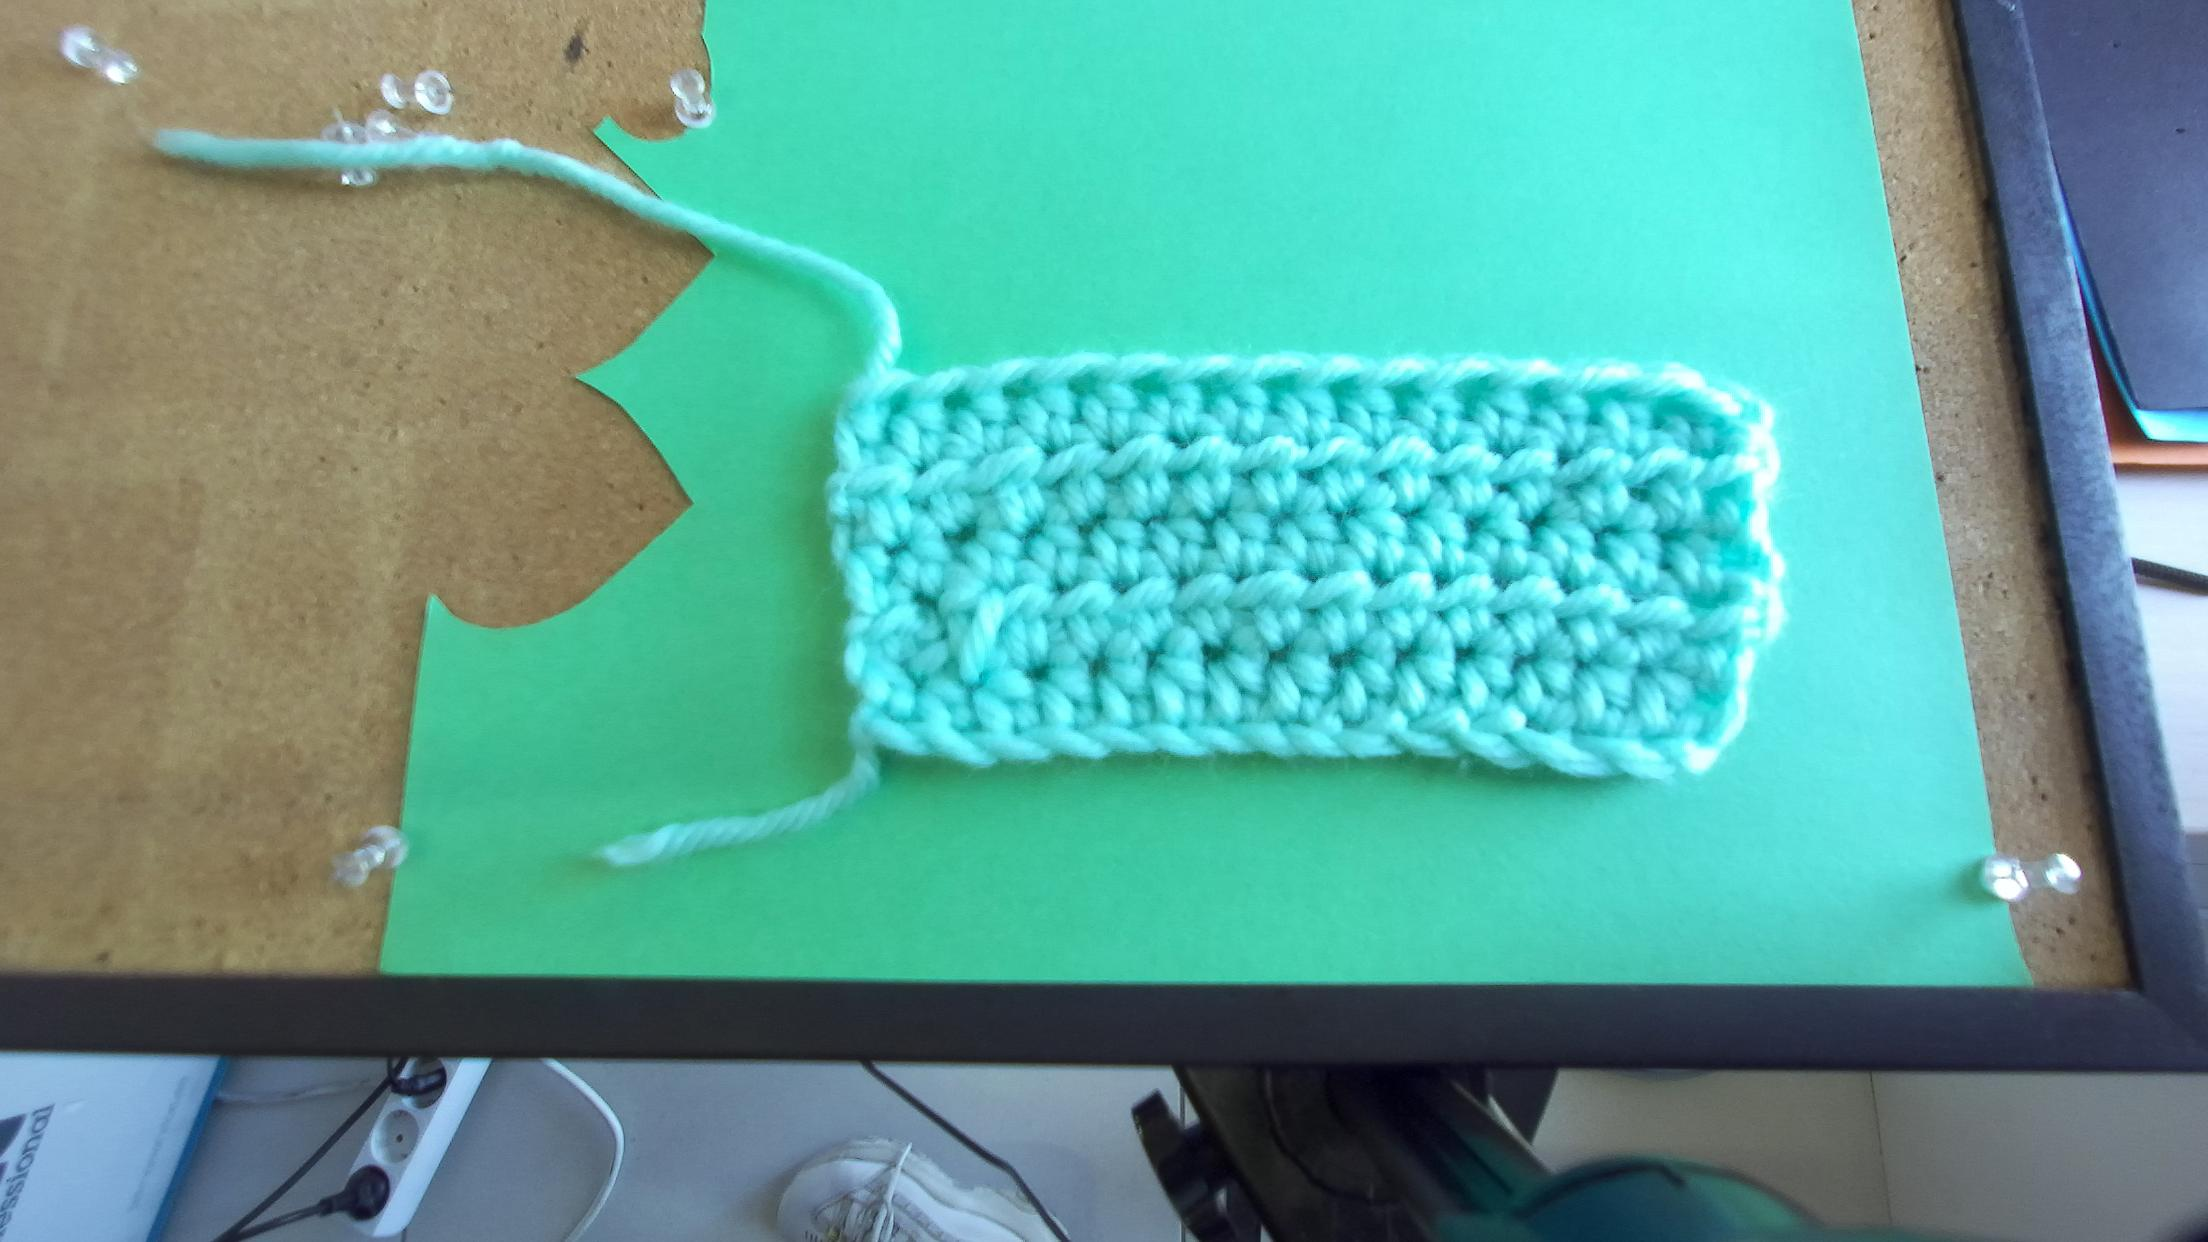hole: (1192, 373, 1236, 399), (999, 373, 1037, 400), (1256, 372, 1298, 396), (877, 387, 913, 414), (943, 384, 974, 416), (1580, 388, 1624, 409), (1453, 376, 1491, 399), (1322, 375, 1362, 396), (1066, 373, 1099, 396), (1131, 370, 1165, 393), (1521, 381, 1553, 403), (1383, 381, 1422, 399)
swatch: (830, 359, 1783, 786)
